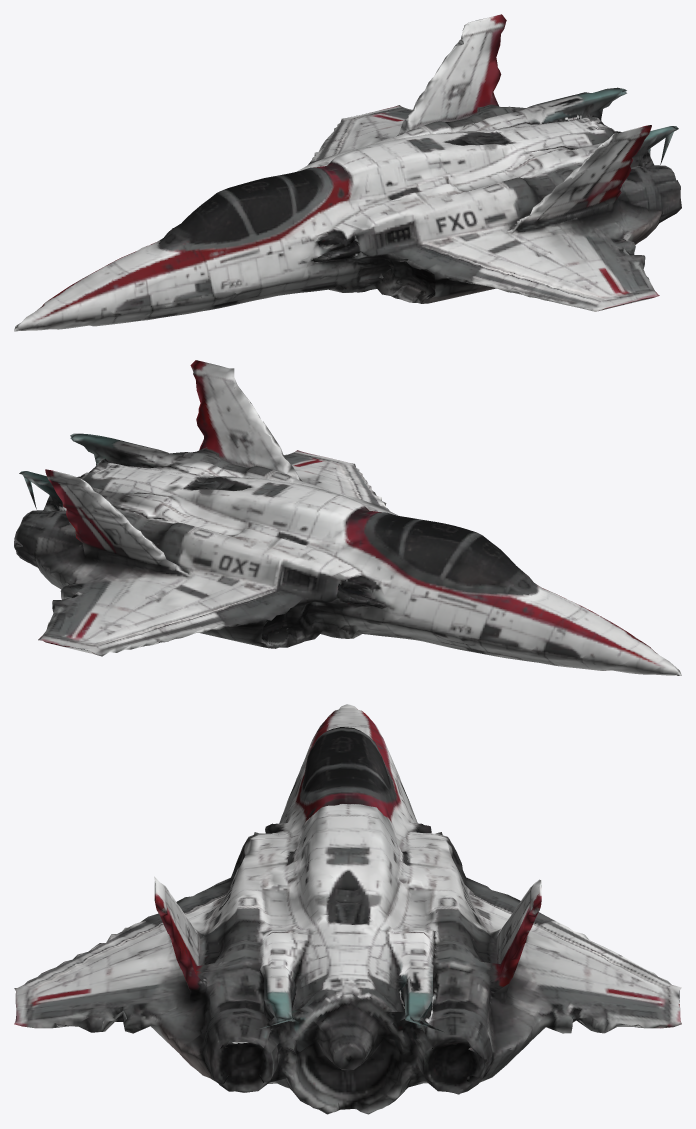
File: spaceship_fighter_voxel_fine.glb
3 views of the same model, one above another, from view 1: azimuth 30°, elevation 25°; view 2: azimuth 150°, elevation 25°; view 3: azimuth 270°, elevation 25° (orthographic). The views are drawn at different scales.
Parts seen in each view (by area): view 1: Low; view 2: Low; view 3: Low.
Part boxes in pixels (box(x1,y1,x2,y2)): Low: box(14, 14, 681, 331); Low: box(14, 360, 681, 675); Low: box(14, 704, 681, 1114).
Size of the model in its own units: 1.91 by 0.4496 by 1.35.
Materials: 1 (1 with a texture image).
